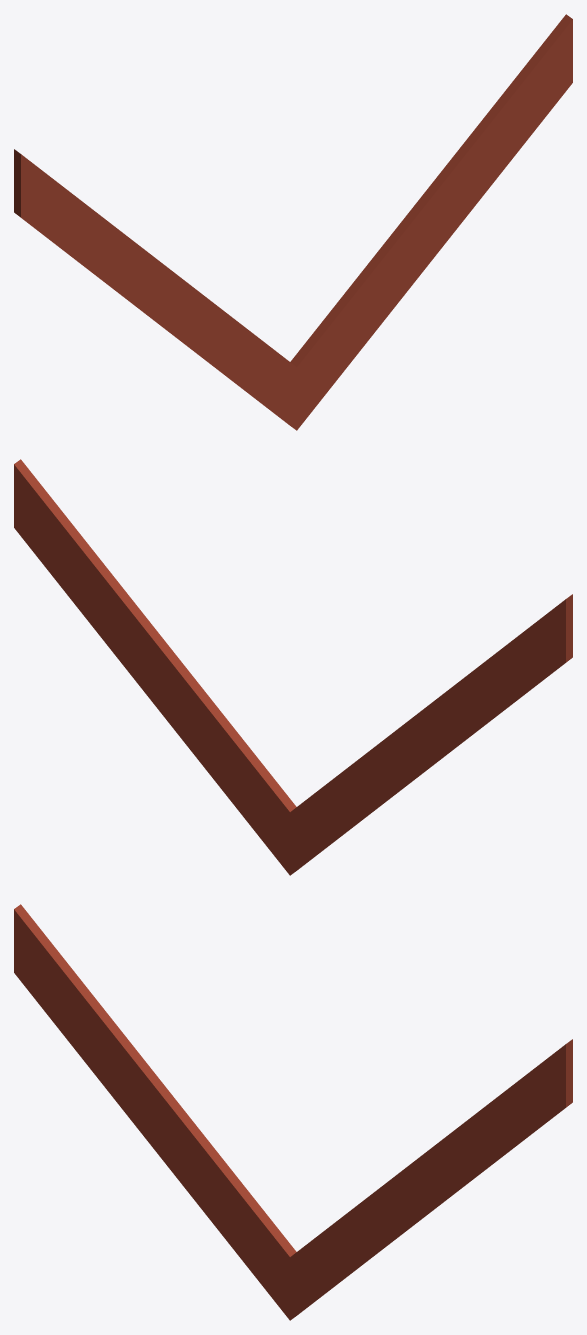
Rendered from FM_BB_Clock_Tower_V_Small_001.fbx.
3 views of the same model, one above another, from view 1: azimuth 30°, elevation 25°; view 2: azimuth 150°, elevation 25°; view 3: azimuth 330°, elevation 25° (orthographic).
Visible parts, largest first — view 1: FM_BB_Clock_Tower_V_Small_001; view 2: FM_BB_Clock_Tower_V_Small_001; view 3: FM_BB_Clock_Tower_V_Small_001.
Part boxes in pixels (<box>): FM_BB_Clock_Tower_V_Small_001: <box>14,14,572,430</box>; FM_BB_Clock_Tower_V_Small_001: <box>14,459,572,875</box>; FM_BB_Clock_Tower_V_Small_001: <box>14,904,572,1320</box>.
Bounding box in the file's own units: 1.48 × 0.882 × 0.0318.
